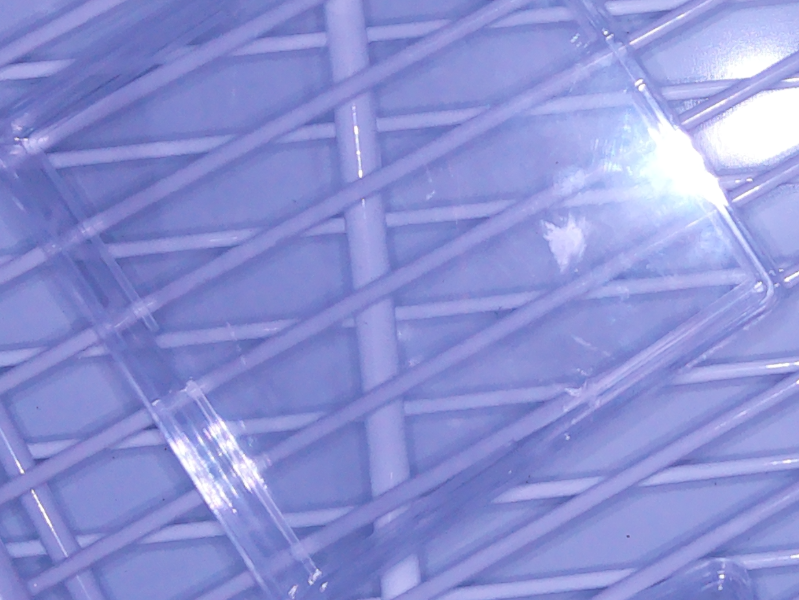plate: (15, 1, 781, 596), (608, 555, 765, 600)
